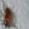cockroach: (3, 6, 12, 26)
